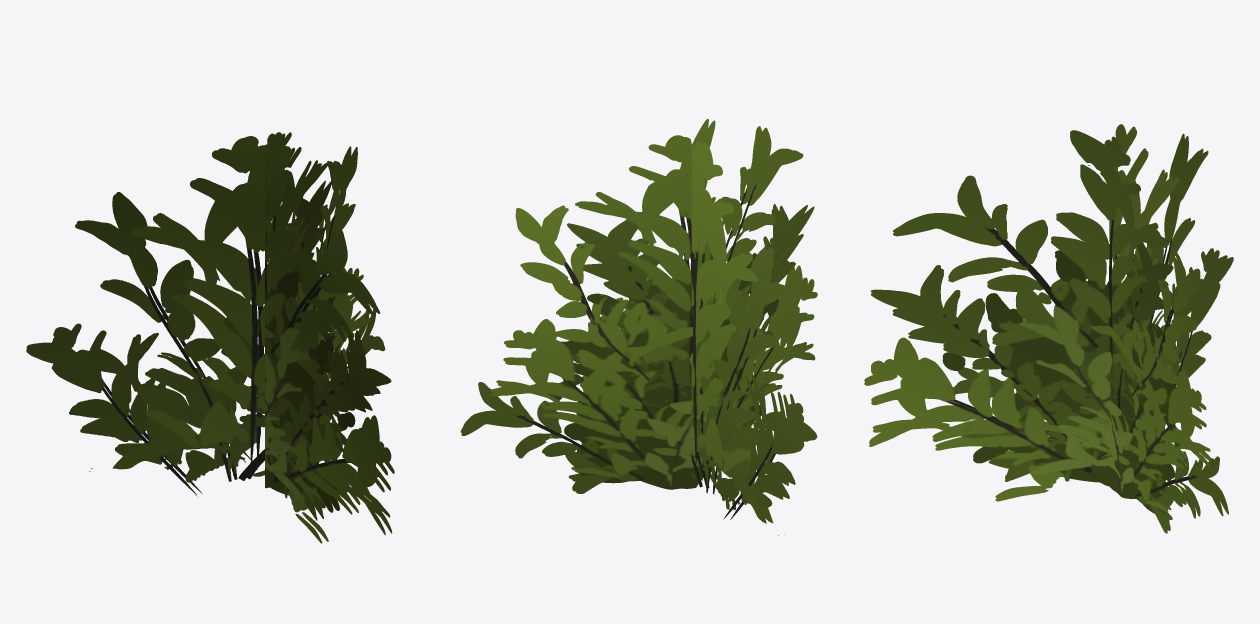
Rendered from bush3.fbx.
3 views of the same model, side by side, from view 1: azimuth 30°, elevation 25°; view 2: azimuth 150°, elevation 25°; view 3: azimuth 270°, elevation 25° (orthographic).
Parts seen in each view (by area): view 1: plants2.002; view 2: plants2.002; view 3: plants2.002.
Boxes of the visible parts, <box> form: plants2.002: <box>26,132,394,543</box>; plants2.002: <box>460,119,817,535</box>; plants2.002: <box>864,124,1233,533</box>.
Size of the model in its own units: 200 by 198 by 174.
